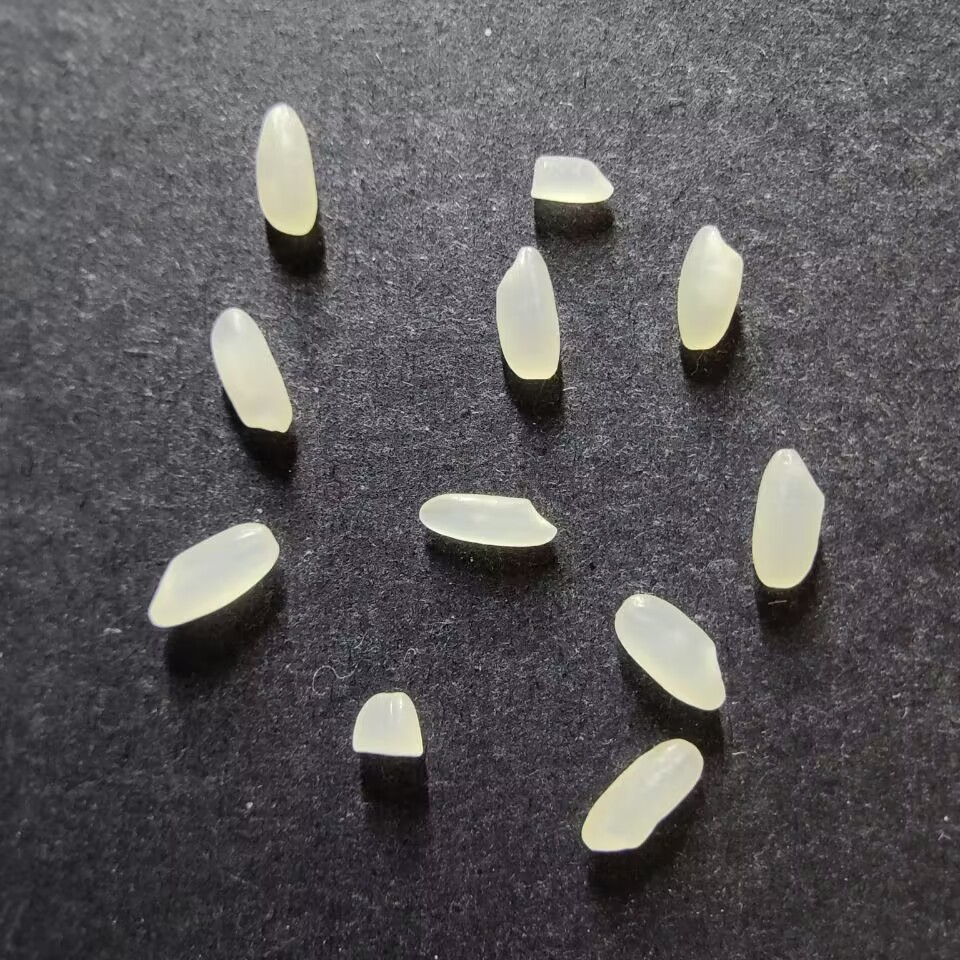broken: (351, 691, 423, 759), (530, 154, 614, 204)
rice: (147, 522, 280, 628), (580, 738, 703, 852), (613, 592, 726, 711), (209, 306, 292, 433), (751, 448, 825, 589), (494, 244, 560, 380), (254, 103, 317, 237), (676, 225, 743, 351), (418, 492, 557, 547)
